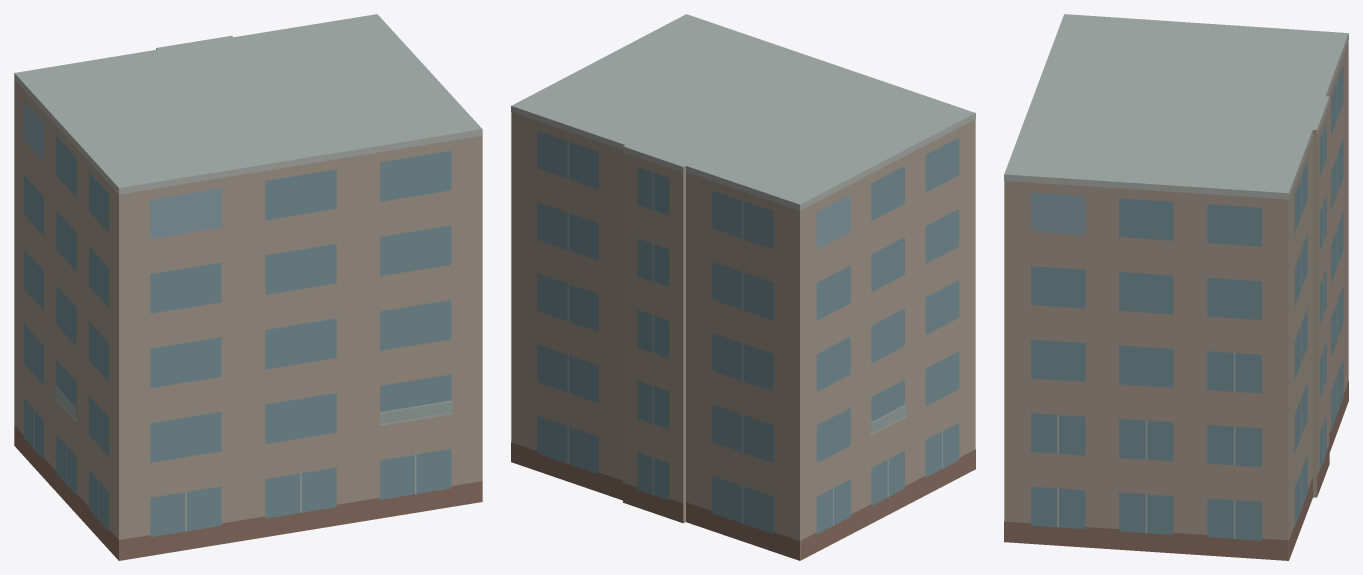
The model's file is survey-upis-32741755.glb.
The picture shows the model from 3 angles, left to right: view 1: azimuth 30°, elevation 25°; view 2: azimuth 150°, elevation 25°; view 3: azimuth 270°, elevation 25°; orthographic projection. The views are drawn at different scales.
Parts seen in each view (by area): view 1: survey-upis-32741755.tmp; view 2: survey-upis-32741755.tmp; view 3: survey-upis-32741755.tmp.
Part boxes in pixels (bbox=[...]): survey-upis-32741755.tmp: bbox=[14, 14, 482, 560]; survey-upis-32741755.tmp: bbox=[511, 14, 975, 560]; survey-upis-32741755.tmp: bbox=[1004, 14, 1348, 560].
Bounding box in the file's own units: 14.75 × 14.1 × 11.99.
